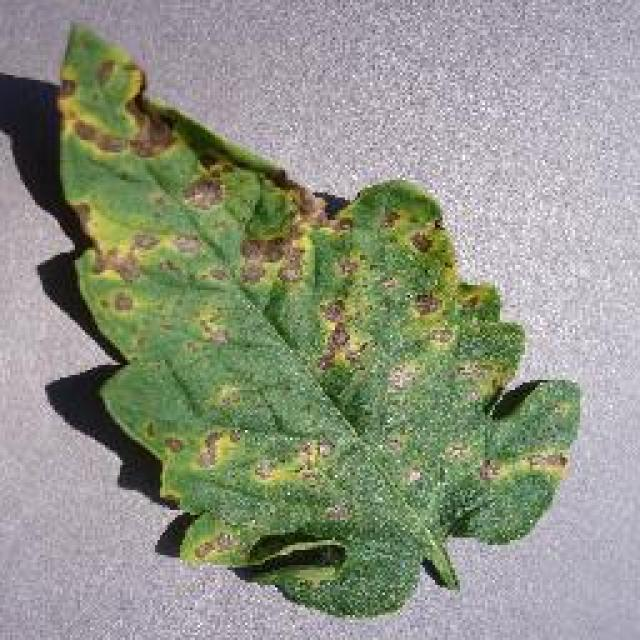Tomato target spot leaf: (56, 21, 582, 619)
